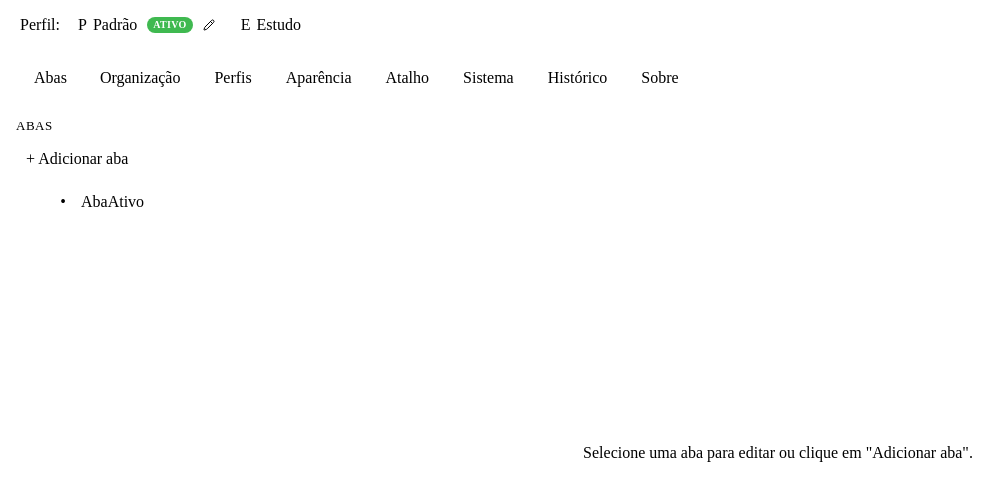
it: SettingsApp intent routing › changing the profile in the picker swaps which profile's tabs are shown
Check: the text "AbaAtivo" is shown, box [81,193,144,210]
Click the option "E Estudo". click: (271, 24)
box: [241,16,301,33]
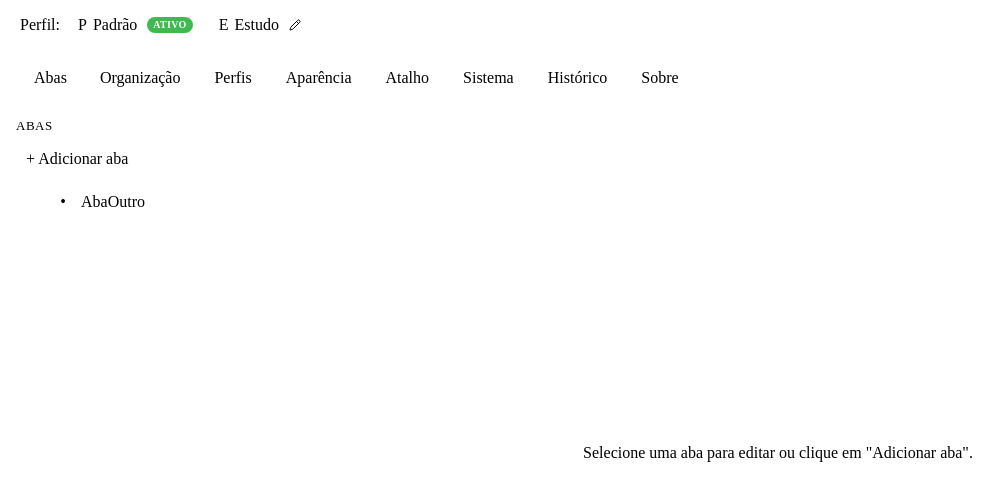
Check: the text "AbaOutro" is shown, box [81,193,145,210]
Check: the button "AbaAtivo" is gone
